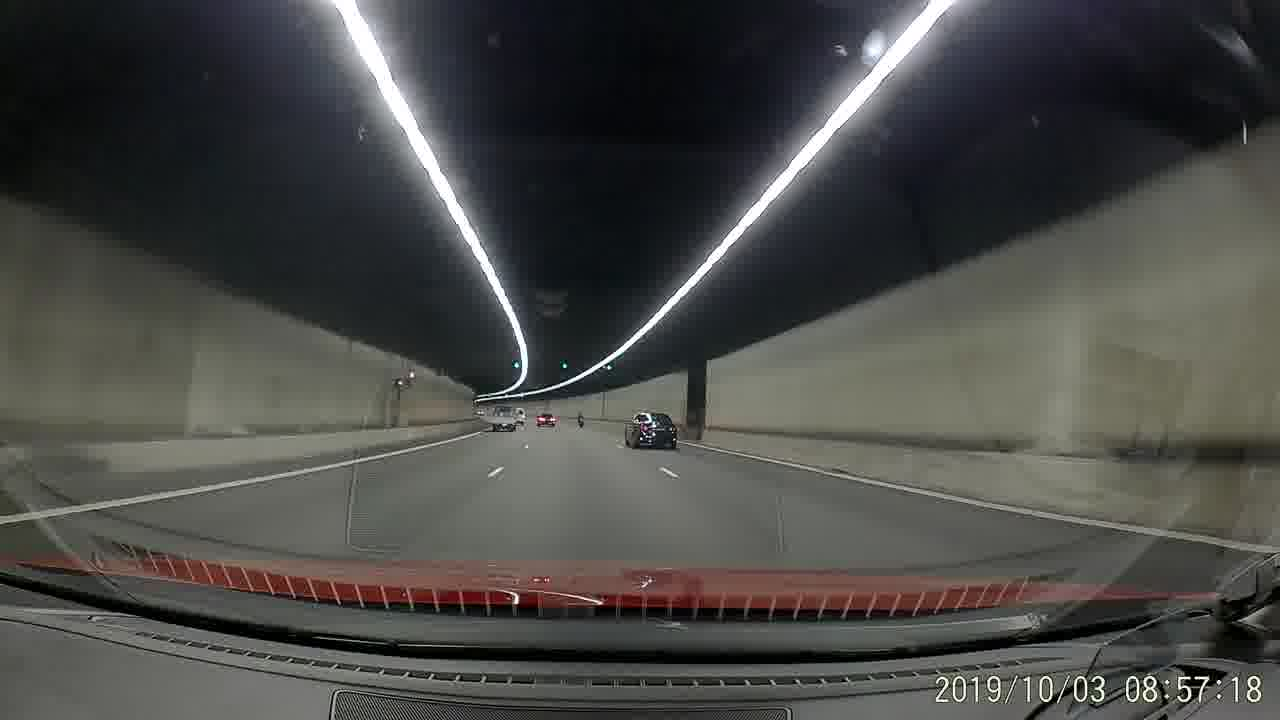car: (621, 411, 678, 451), (540, 411, 555, 427)
